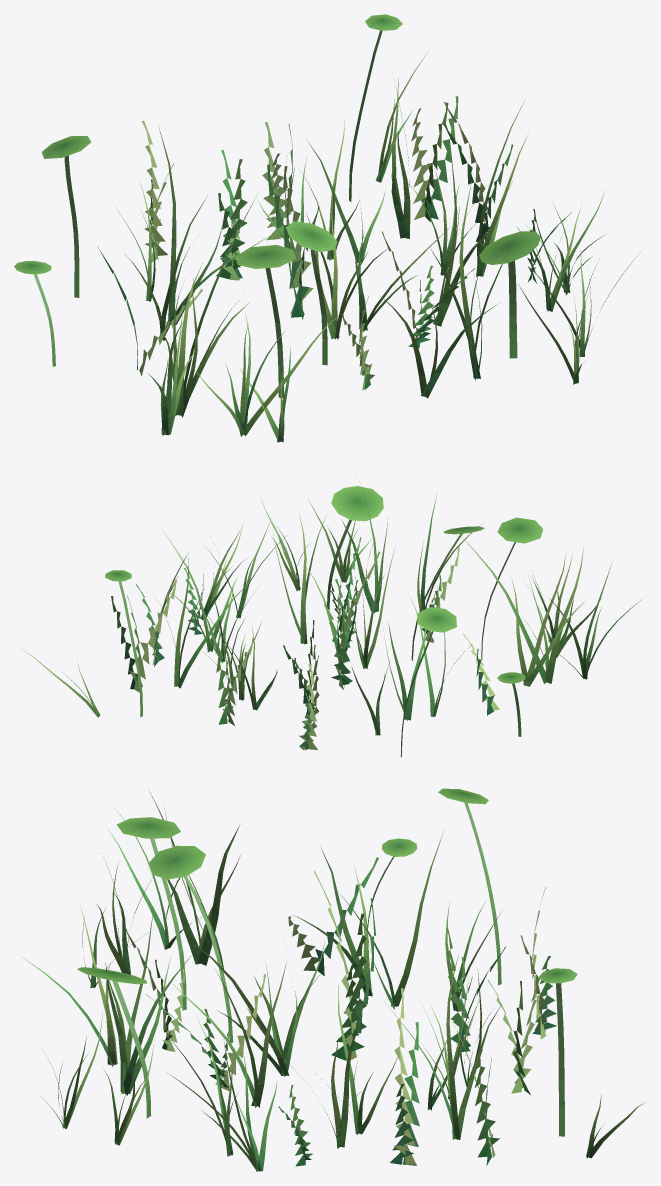
The model's file is stylized_lawn_demo.glb.
The picture shows the model from 3 angles, top to bottom: view 1: azimuth 30°, elevation 25°; view 2: azimuth 150°, elevation 25°; view 3: azimuth 270°, elevation 25°; orthographic projection. The views are drawn at different scales.
Visible parts, largest first — view 1: Grass_Fine, Grass_Broad, Plant_Coin; view 2: Grass_Fine, Grass_Broad, Plant_Coin; view 3: Grass_Fine, Grass_Broad, Plant_Coin.
Part boxes in pixels (box(x1,y1,x2,y2)): Grass_Fine: box(116, 49, 641, 442); Grass_Broad: box(97, 96, 571, 390); Plant_Coin: box(14, 14, 540, 397); Grass_Fine: box(19, 489, 644, 735); Grass_Broad: box(111, 537, 499, 750); Plant_Coin: box(105, 486, 543, 757); Grass_Fine: box(21, 791, 645, 1171); Grass_Broad: box(124, 857, 556, 1166); Plant_Coin: box(77, 788, 577, 1136).
Bounding box in the file's own units: 2.07 × 0.6931 × 2.01.
